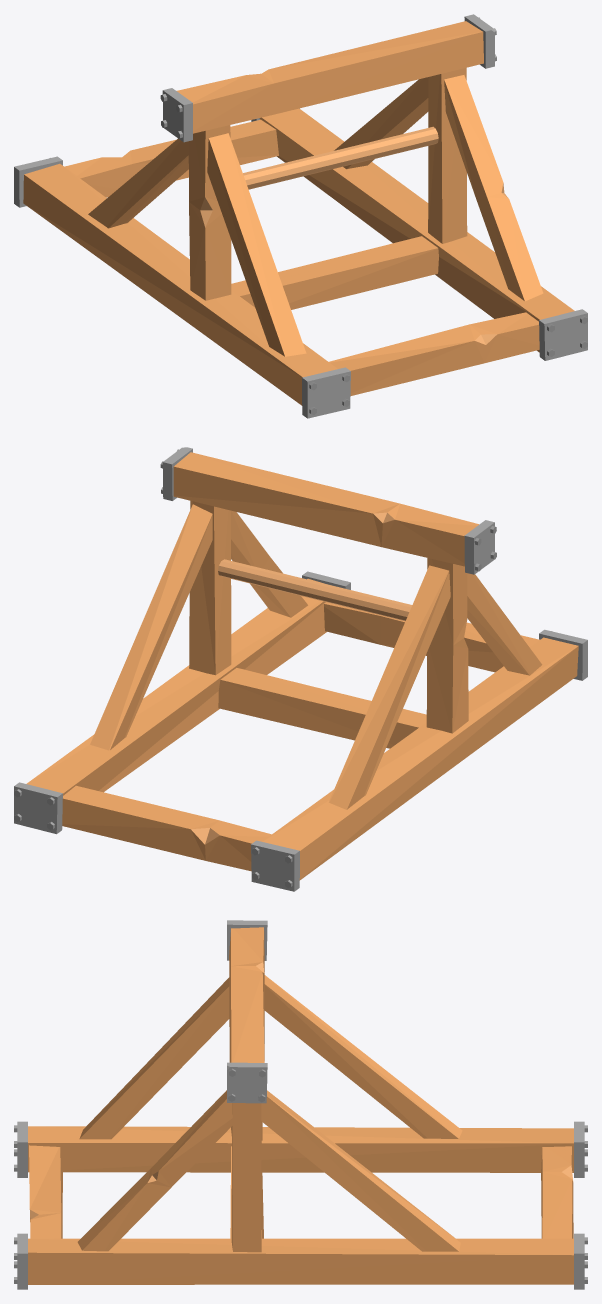
Rendered from catapult.fbx.
3 views of the same model, one above another, from view 1: azimuth 30°, elevation 25°; view 2: azimuth 150°, elevation 25°; view 3: azimuth 270°, elevation 25° (orthographic). The views are drawn at different scales.
Visible parts, largest first — view 1: catapult; view 2: catapult; view 3: catapult.
Part boxes in pixels (x1,y1,x2,y2): catapult: [14, 14, 587, 418]; catapult: [14, 447, 587, 891]; catapult: [14, 920, 587, 1289].
Bounding box in the file's own units: 2.71 × 1.94 × 4.39.
